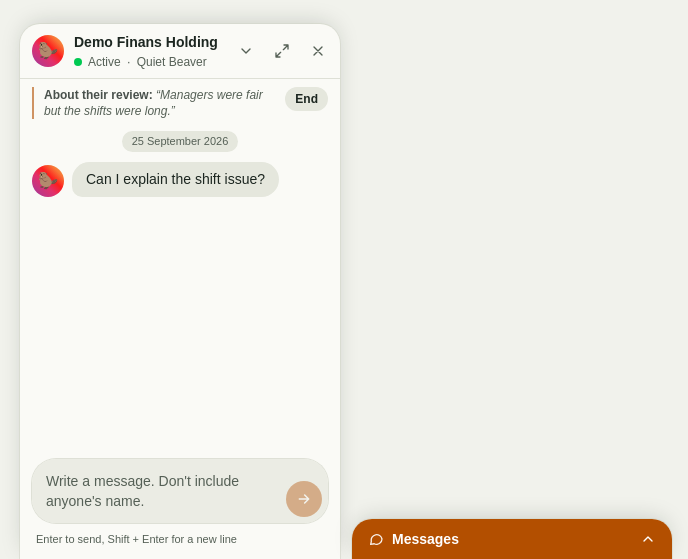
ChatDock › keeps the draft and shows the reason when a message is blocked
The width and height of the screenshot is (688, 559).
Type "Call 0532 123 45 67" into the text box.
click(158, 490); type("Call 0532 123 45 67")  # box [38,464,278,516]
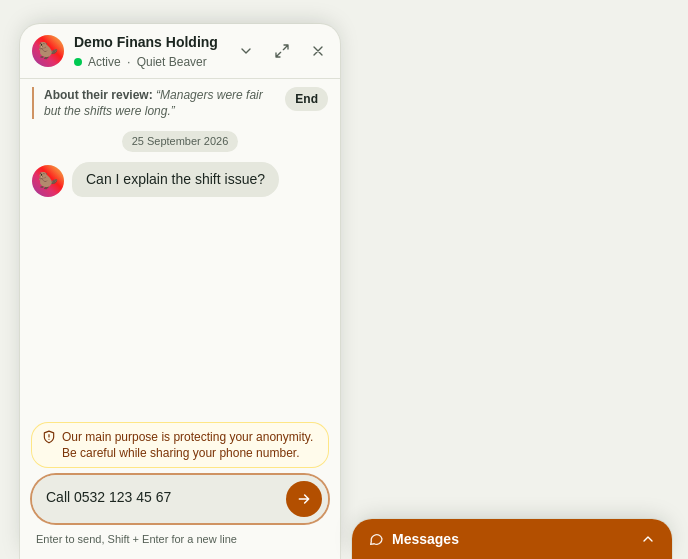
Click the button named "Send".
click(304, 498)  # box [286,480,322,516]
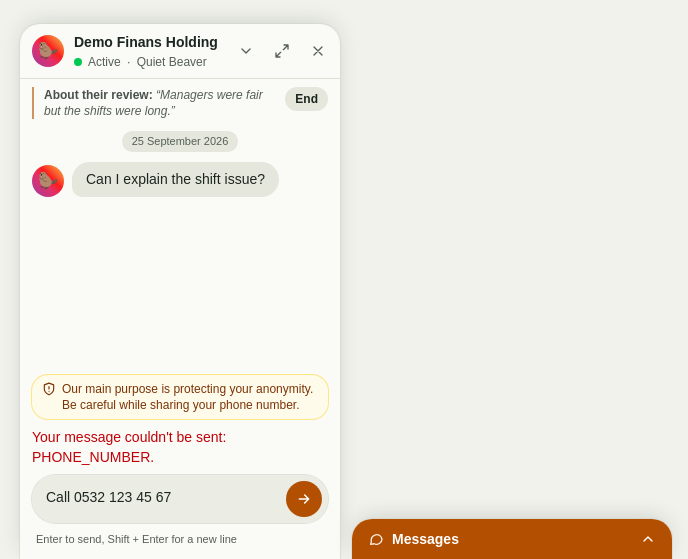
Result: the text "Your message couldn't be sent: PHONE_NUMBER." is shown at [32,428,226,464]
